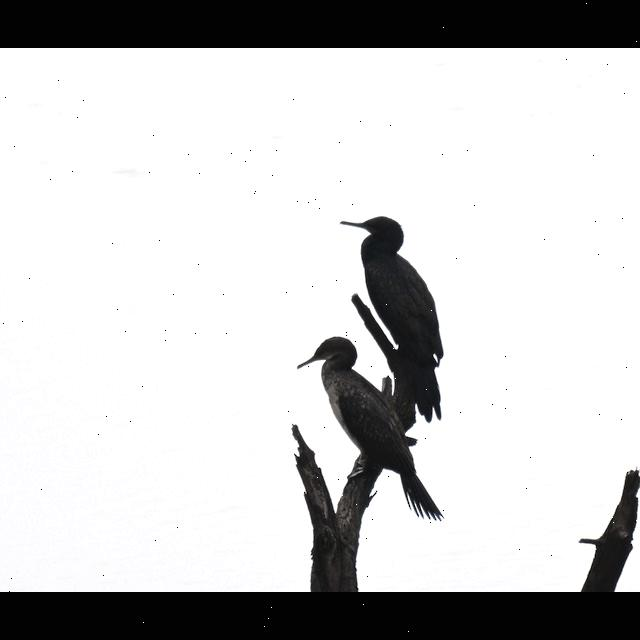cormorant: (336, 206, 450, 402), (294, 336, 411, 518)
